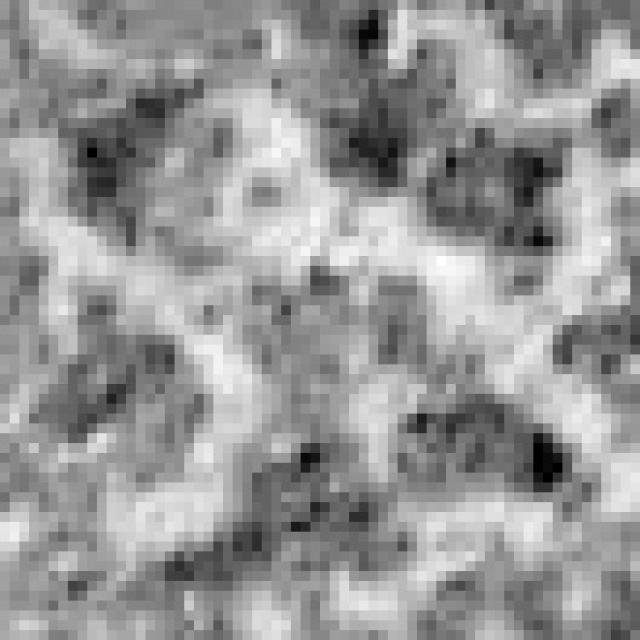inner: (193, 246, 457, 442)
lobe: (158, 435, 420, 591), (25, 289, 210, 496), (52, 87, 257, 268), (265, 19, 461, 191), (392, 378, 598, 515), (427, 121, 582, 262)
outer: (7, 0, 640, 630)
